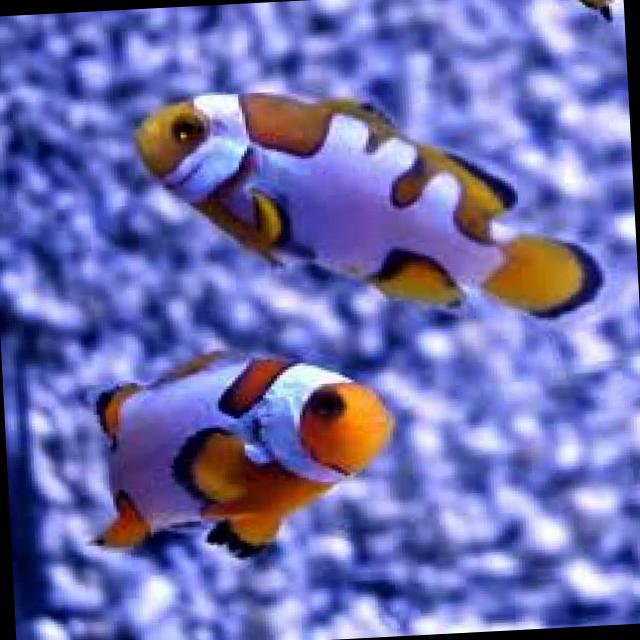ClownFish: (130, 74, 606, 343), (80, 342, 398, 564)
